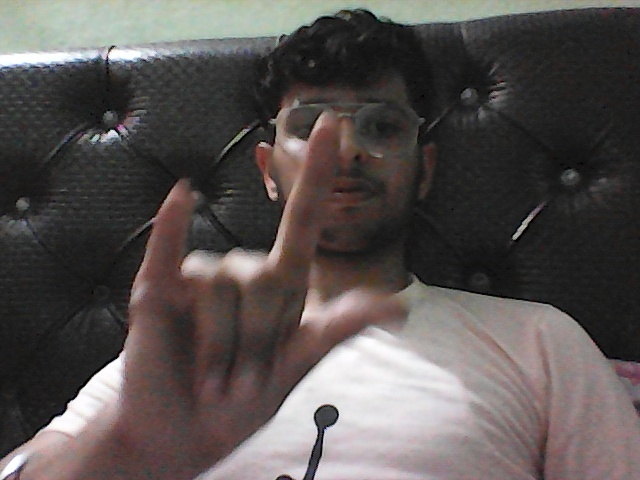iloveyou: (88, 102, 429, 480)
